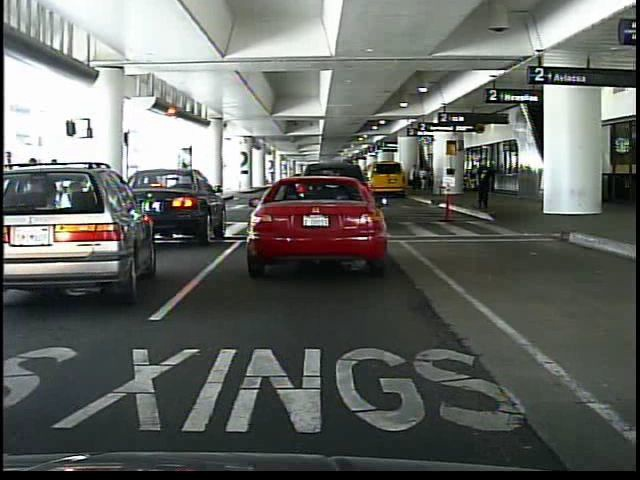person: (171, 159, 195, 222), (3, 149, 20, 237), (336, 158, 355, 216), (475, 157, 494, 211), (408, 159, 421, 196)
